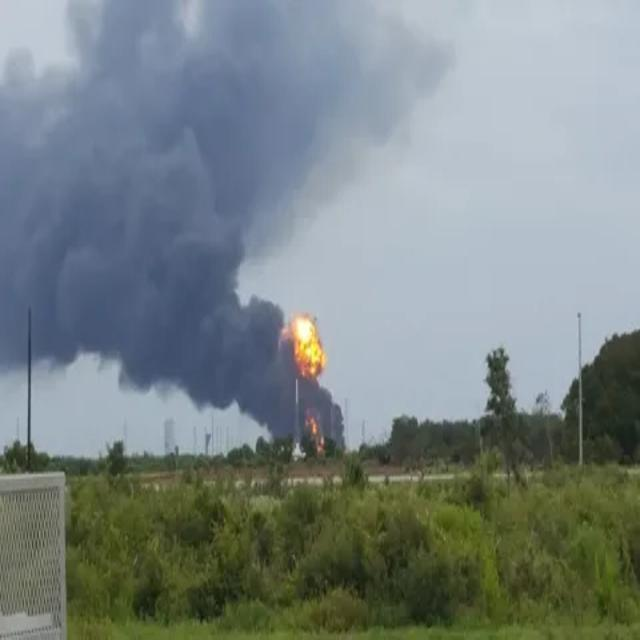Smoke: (0, 0, 420, 452)
